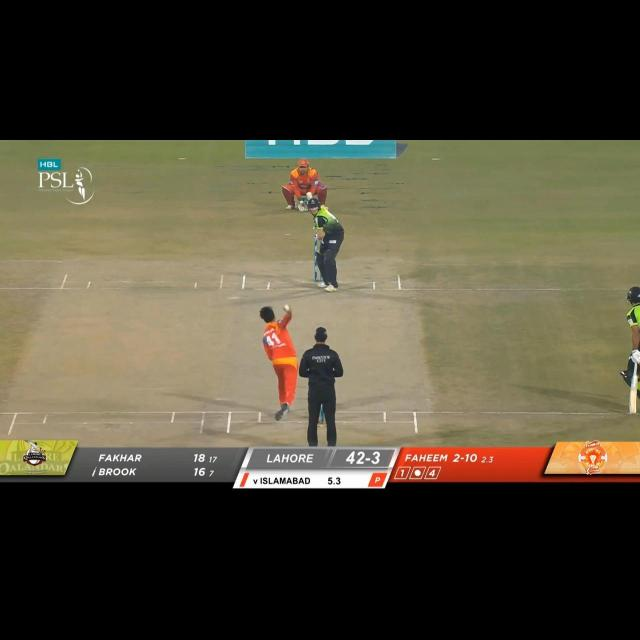bat: (629, 376, 638, 414), (306, 191, 313, 201)
toe: (630, 408, 637, 414), (306, 192, 313, 196)
